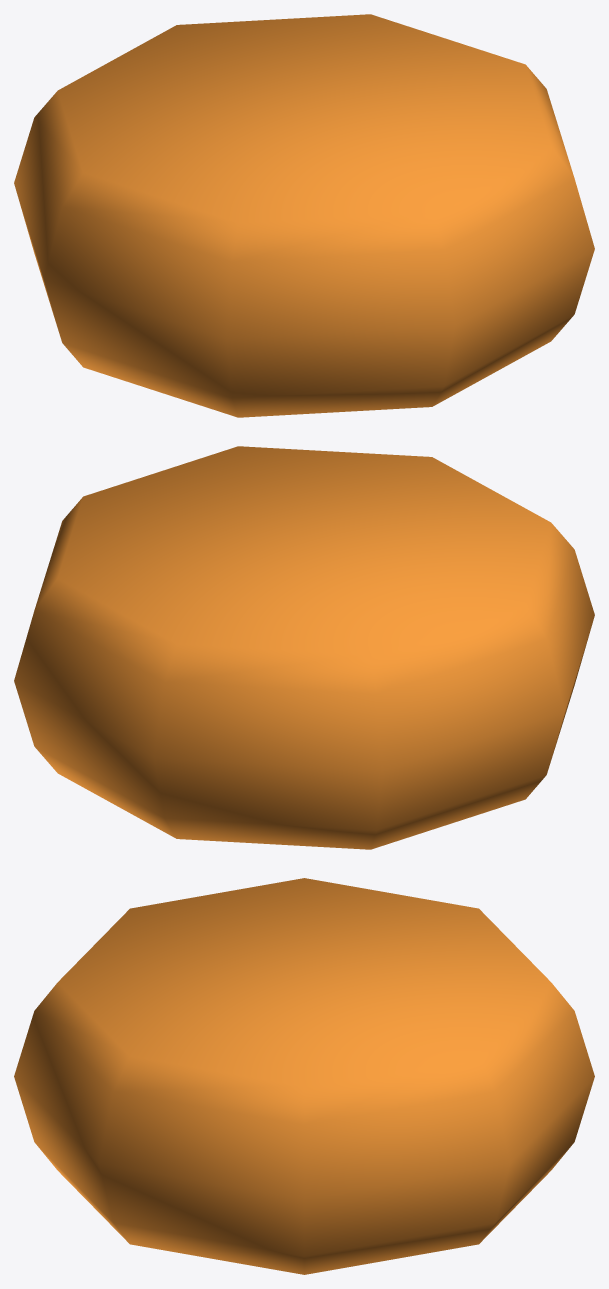
Rendered from CheeseWheelWhole.fbx.
3 renders of one model, top to bottom at view 1: azimuth 30°, elevation 25°; view 2: azimuth 150°, elevation 25°; view 3: azimuth 270°, elevation 25°, orthographic. The views are drawn at different scales.
Parts seen in each view (by area): view 1: cheeseRoundFull; view 2: cheeseRoundFull; view 3: cheeseRoundFull.
Boxes of the visible parts, x1=… form: cheeseRoundFull: x1=14, y1=14, x2=594, y2=417; cheeseRoundFull: x1=14, y1=446, x2=594, y2=849; cheeseRoundFull: x1=14, y1=878, x2=594, y2=1274.
Size of the model in its own units: 96.77 by 34.62 by 96.77.
